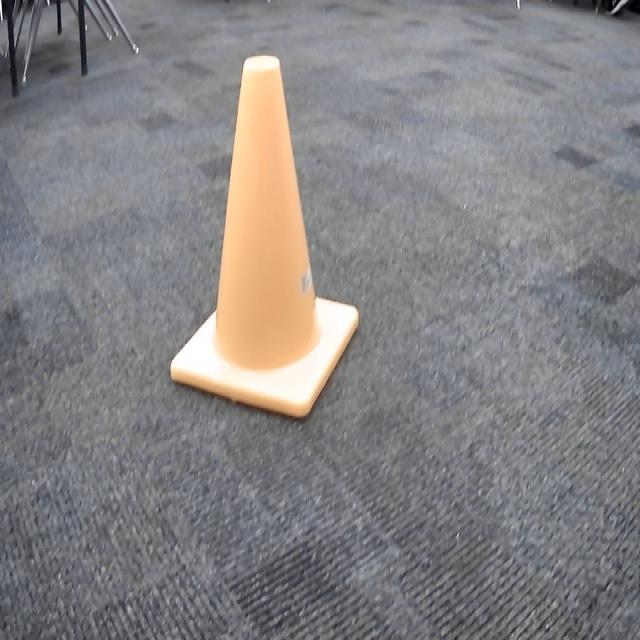cone: (168, 52, 359, 424)
